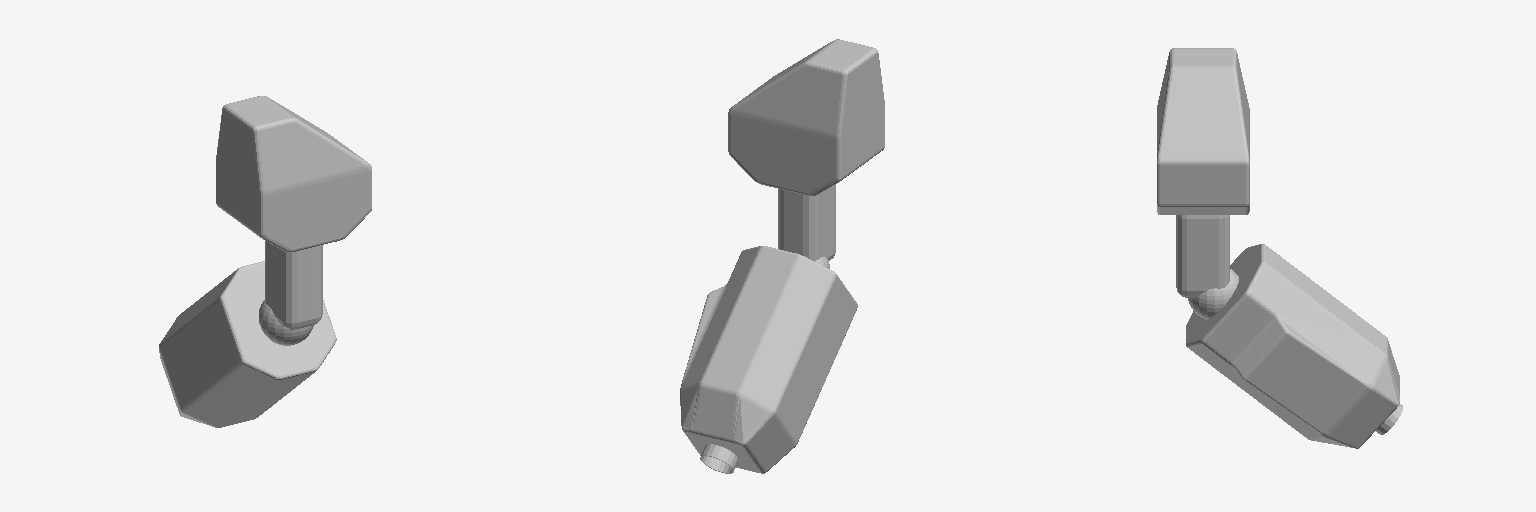
File: MixedRobot_rightarm.obj
3 views of the same model, side by side, from view 1: azimuth 30°, elevation 25°; view 2: azimuth 150°, elevation 25°; view 3: azimuth 270°, elevation 25° (orthographic).
Parts seen in each view (by area): view 1: Right_Arm, R_Arm_Cannon, Right_Arm R_Upper_Arm, Right_Arm R_Upper_Arm R_Elbow; view 2: R_Arm_Cannon, Right_Arm, Right_Arm R_Upper_Arm, R_Arm_Cannon RCannon_Barrel LCannon_Barrel L_Arm_Cannon; view 3: R_Arm_Cannon, Right_Arm, Right_Arm R_Upper_Arm, Right_Arm R_Upper_Arm R_Elbow.
Part boxes in pixels (x1,y1,x2,y2): Right_Arm: (216,96,371,251); R_Arm_Cannon: (159,261,336,427); Right_Arm R_Upper_Arm: (265,241,322,329); Right_Arm R_Upper_Arm R_Elbow: (259,300,313,345); R_Arm_Cannon: (680,246,857,473); Right_Arm: (728,39,884,195); Right_Arm R_Upper_Arm: (778,184,835,261); R_Arm_Cannon RCannon_Barrel LCannon_Barrel L_Arm_Cannon: (700,444,738,473); R_Arm_Cannon: (1186,244,1399,448); Right_Arm: (1157,48,1249,214); Right_Arm R_Upper_Arm: (1176,215,1229,297); Right_Arm R_Upper_Arm R_Elbow: (1188,269,1238,319).
Bounding box in the file's own units: 1.28 × 3.91 × 2.41.